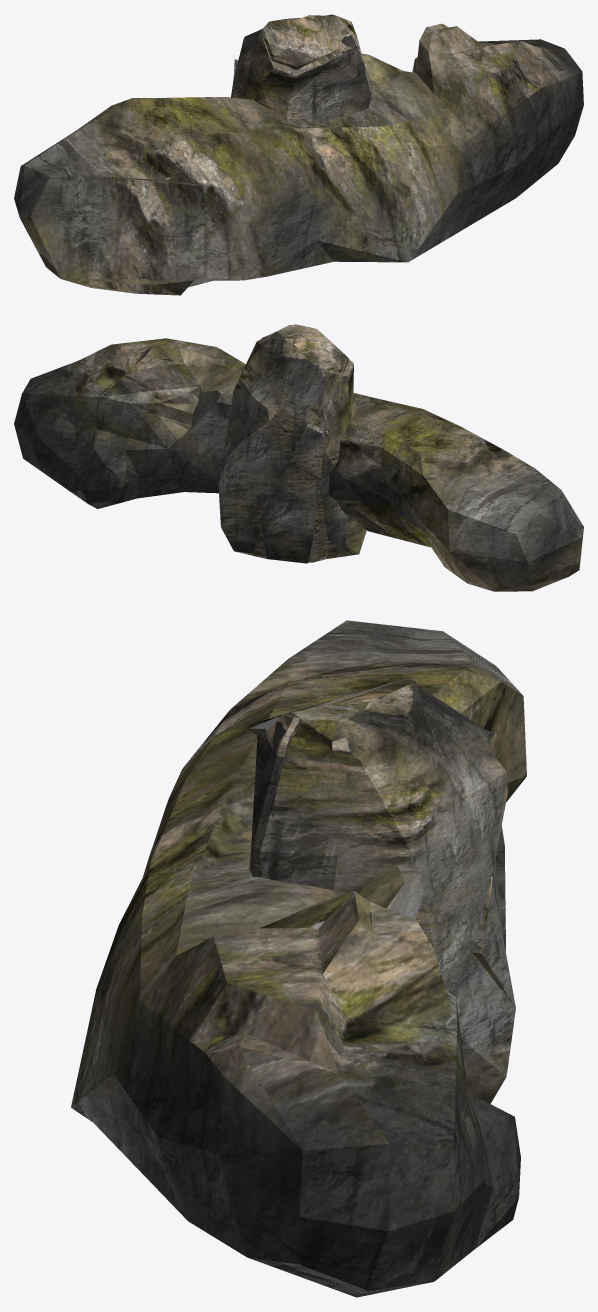
Rendered from CliffTypeRocks.glb.
3 views of the same model, one above another, from view 1: azimuth 30°, elevation 25°; view 2: azimuth 150°, elevation 25°; view 3: azimuth 270°, elevation 25° (orthographic). The views are drawn at different scales.
Parts seen in each view (by area): view 1: rock2, rock3, rock1; view 2: rock2, rock1, rock3; view 3: rock2, rock1, rock3.
Part boxes in pixels (x1,y1,x2,y2): rock2: [14, 23, 583, 295]; rock3: [233, 18, 370, 124]; rock1: [231, 14, 371, 103]; rock2: [14, 338, 583, 591]; rock1: [218, 325, 353, 563]; rock3: [249, 324, 366, 562]; rock2: [71, 620, 526, 1297]; rock1: [258, 678, 515, 1103]; rock3: [248, 710, 353, 877].
Bounding box in the file's own units: 37.67 × 13.35 × 13.36.
Materials: 1 (1 with a texture image).
